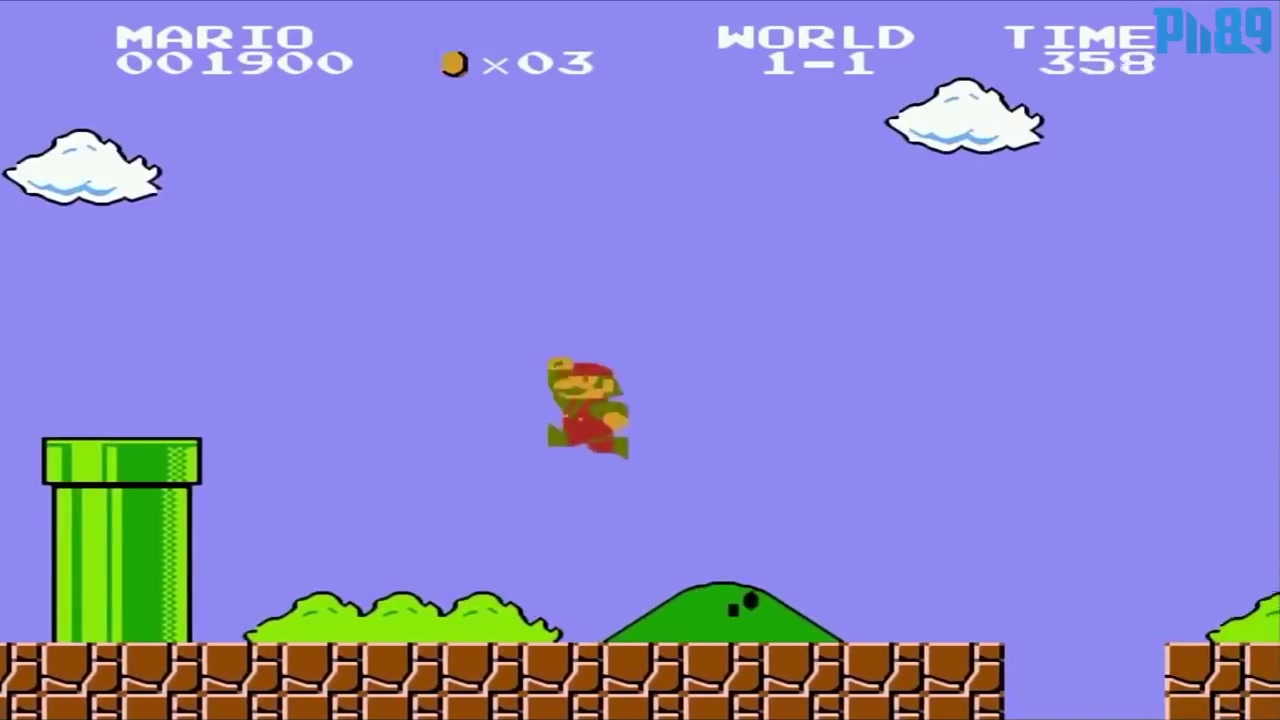mario: (536, 355, 636, 463)
